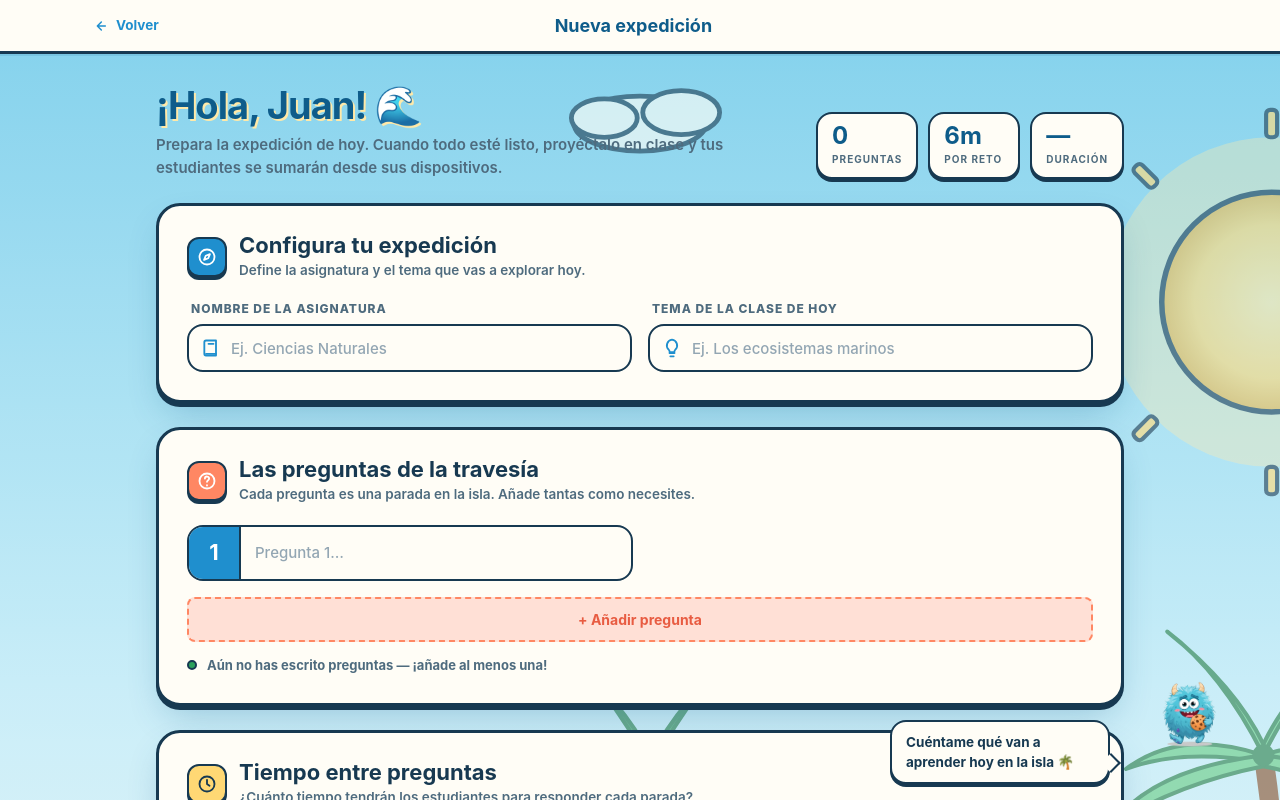
Test: NewSession › maneja errores de Supabase
Type "Matemáticas" into the field with placeholder "Ej. Ciencias Naturales" at [410, 348], box [187,324,632,372]
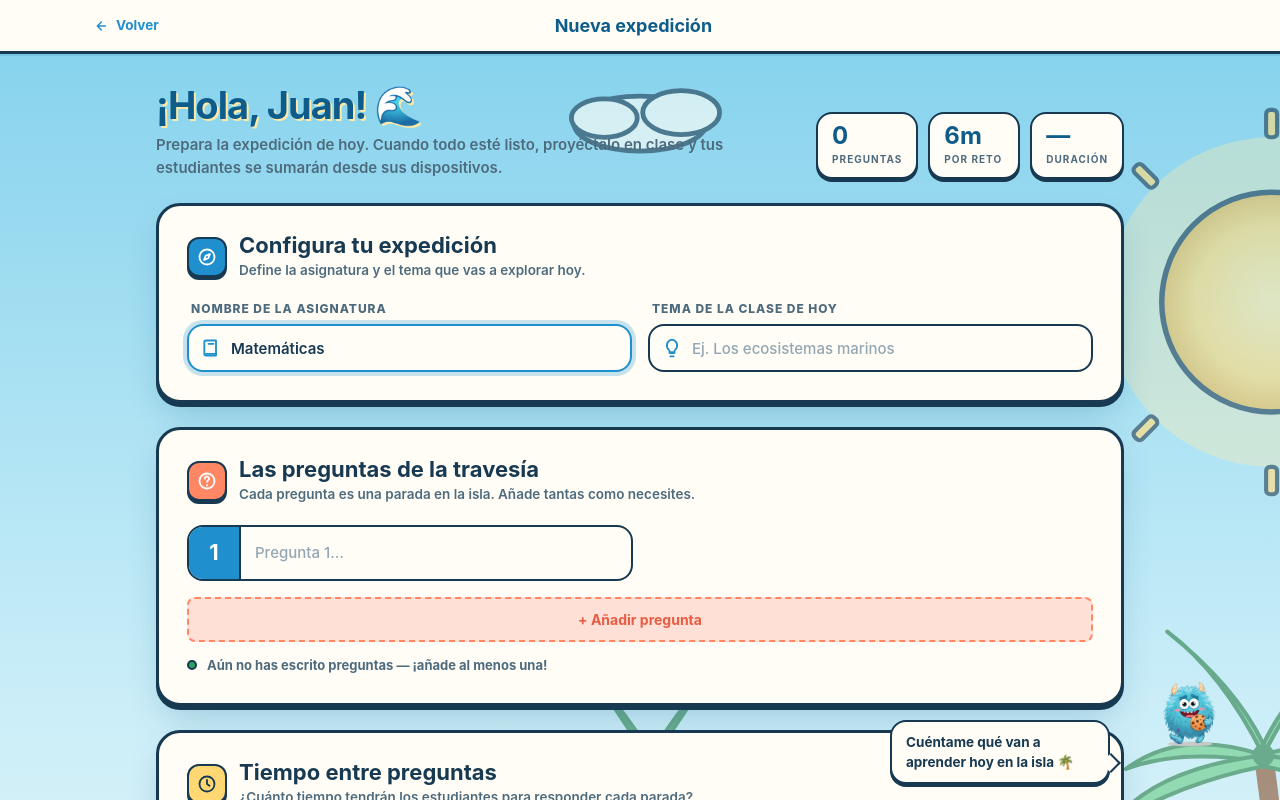
Type "Fracciones" into the field with placeholder "Ej. Los ecosistemas marinos" at [870, 348], box [648,324,1093,372]
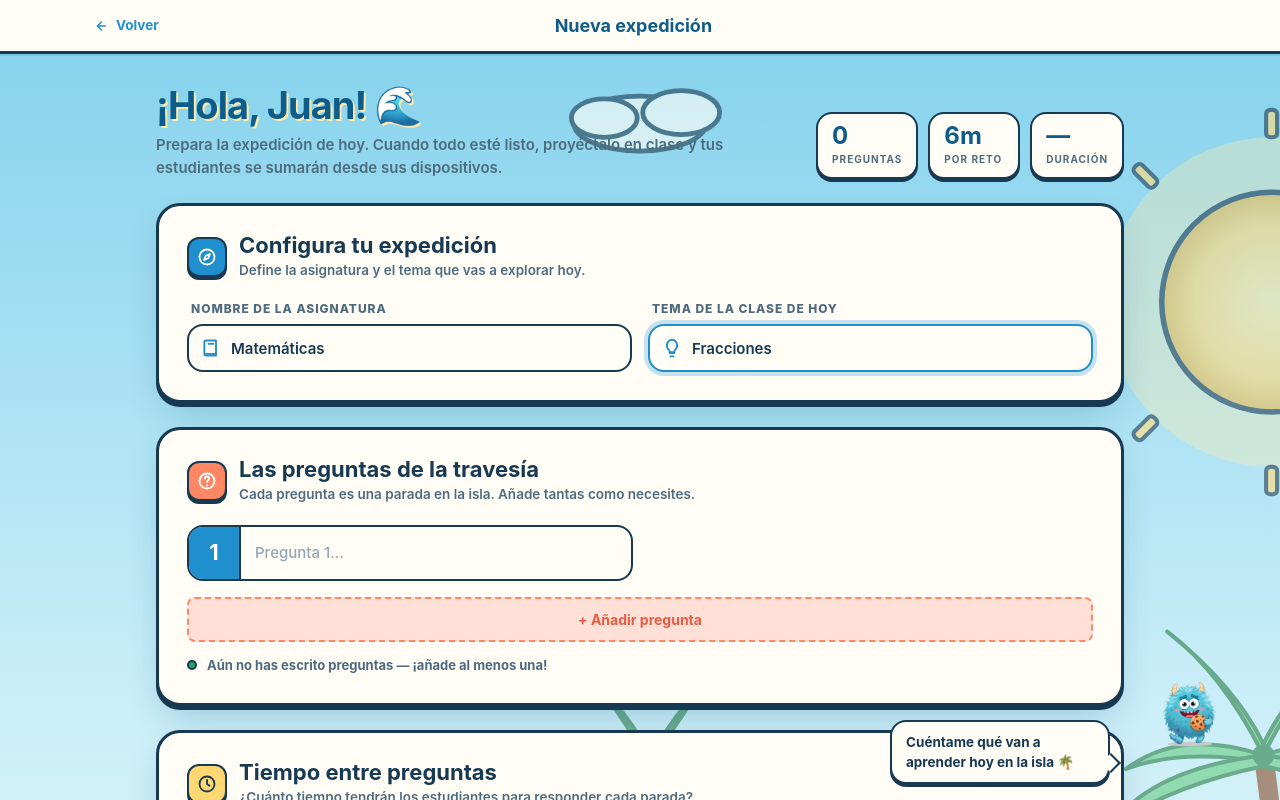
Type "¿Qué es una fracción?" into the field with placeholder "Pregunta 1…" at [436, 552], box [241,526,631,578]
(page scrolled)
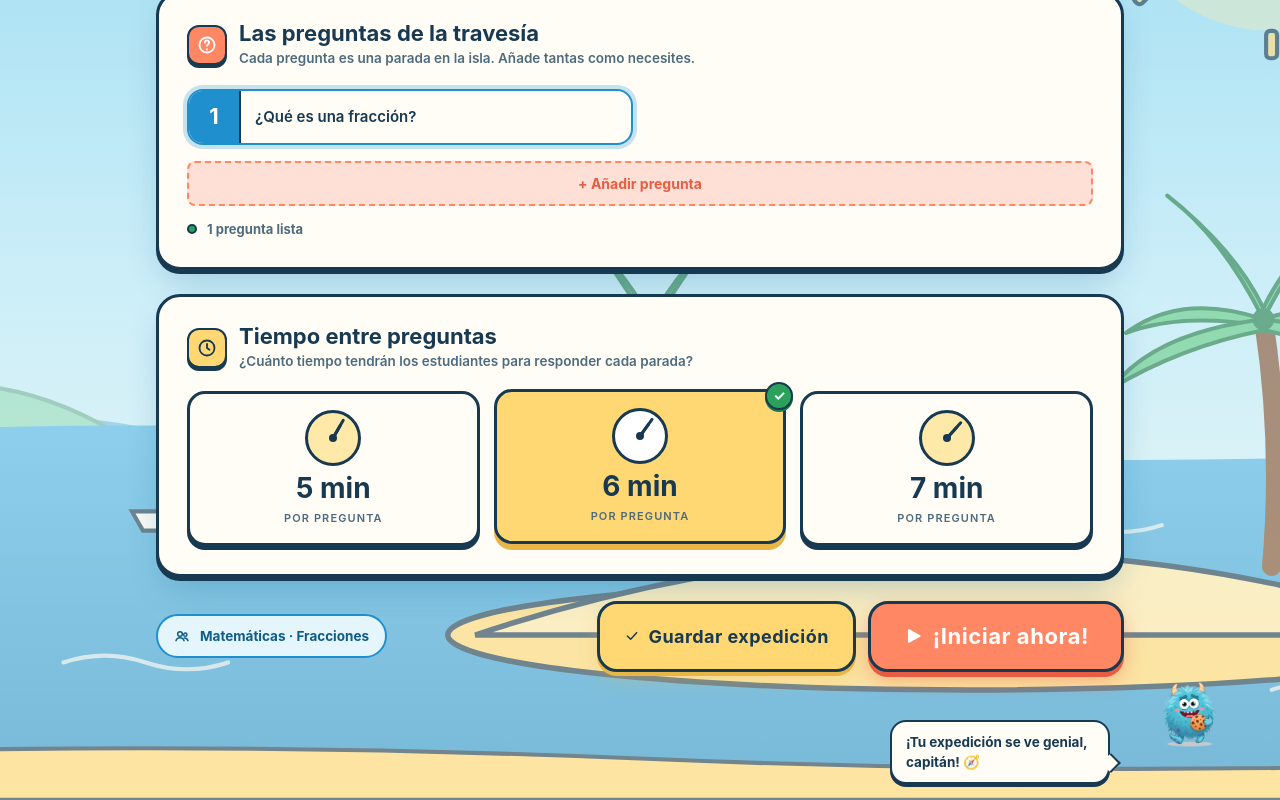
Expected: the button "Guardar expedición" is enabled, [597,601,856,672]
